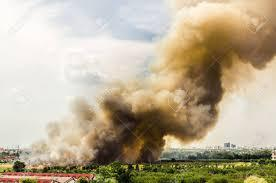yanwu: (21, 1, 276, 165)
